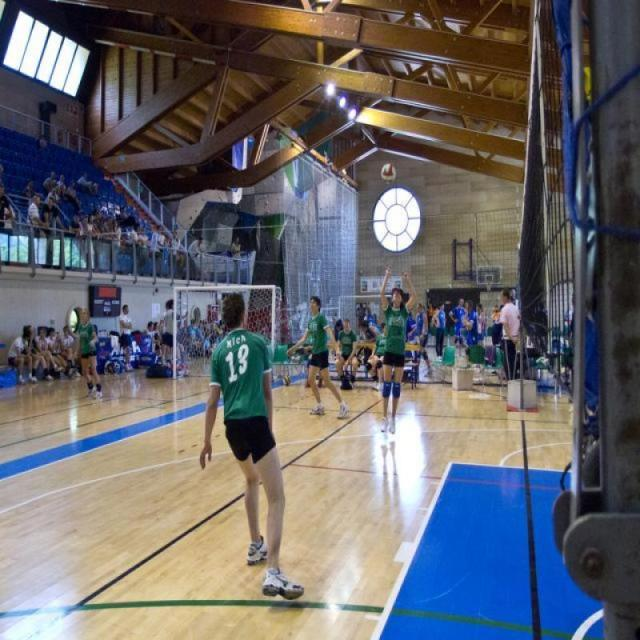volleyball: (380, 162, 397, 186)
